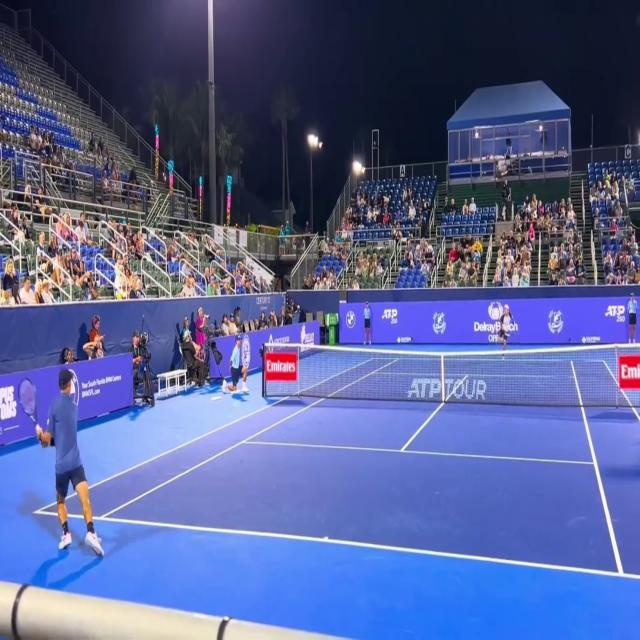tennisBall: (395, 334, 405, 349)
